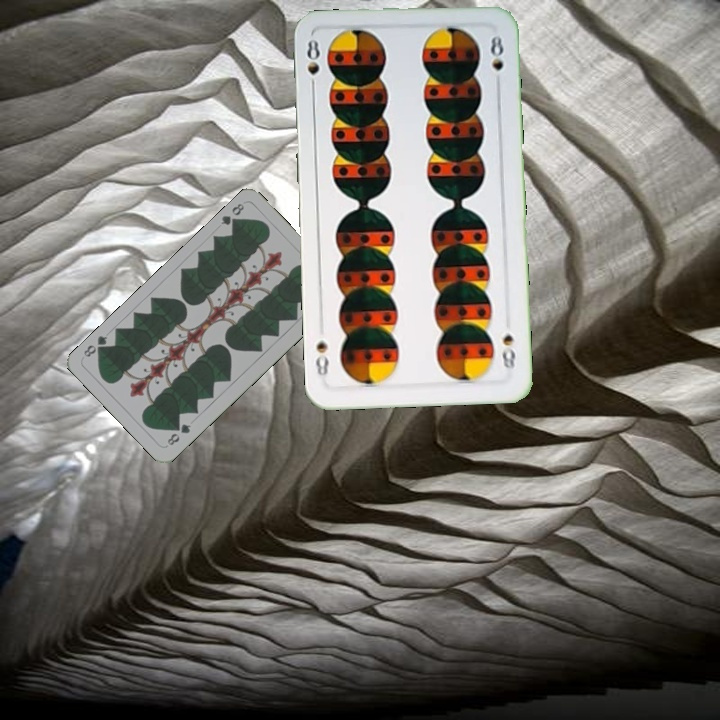G8: (217, 199, 247, 230), (163, 419, 194, 448)
S8: (302, 35, 322, 94), (497, 330, 518, 372)
